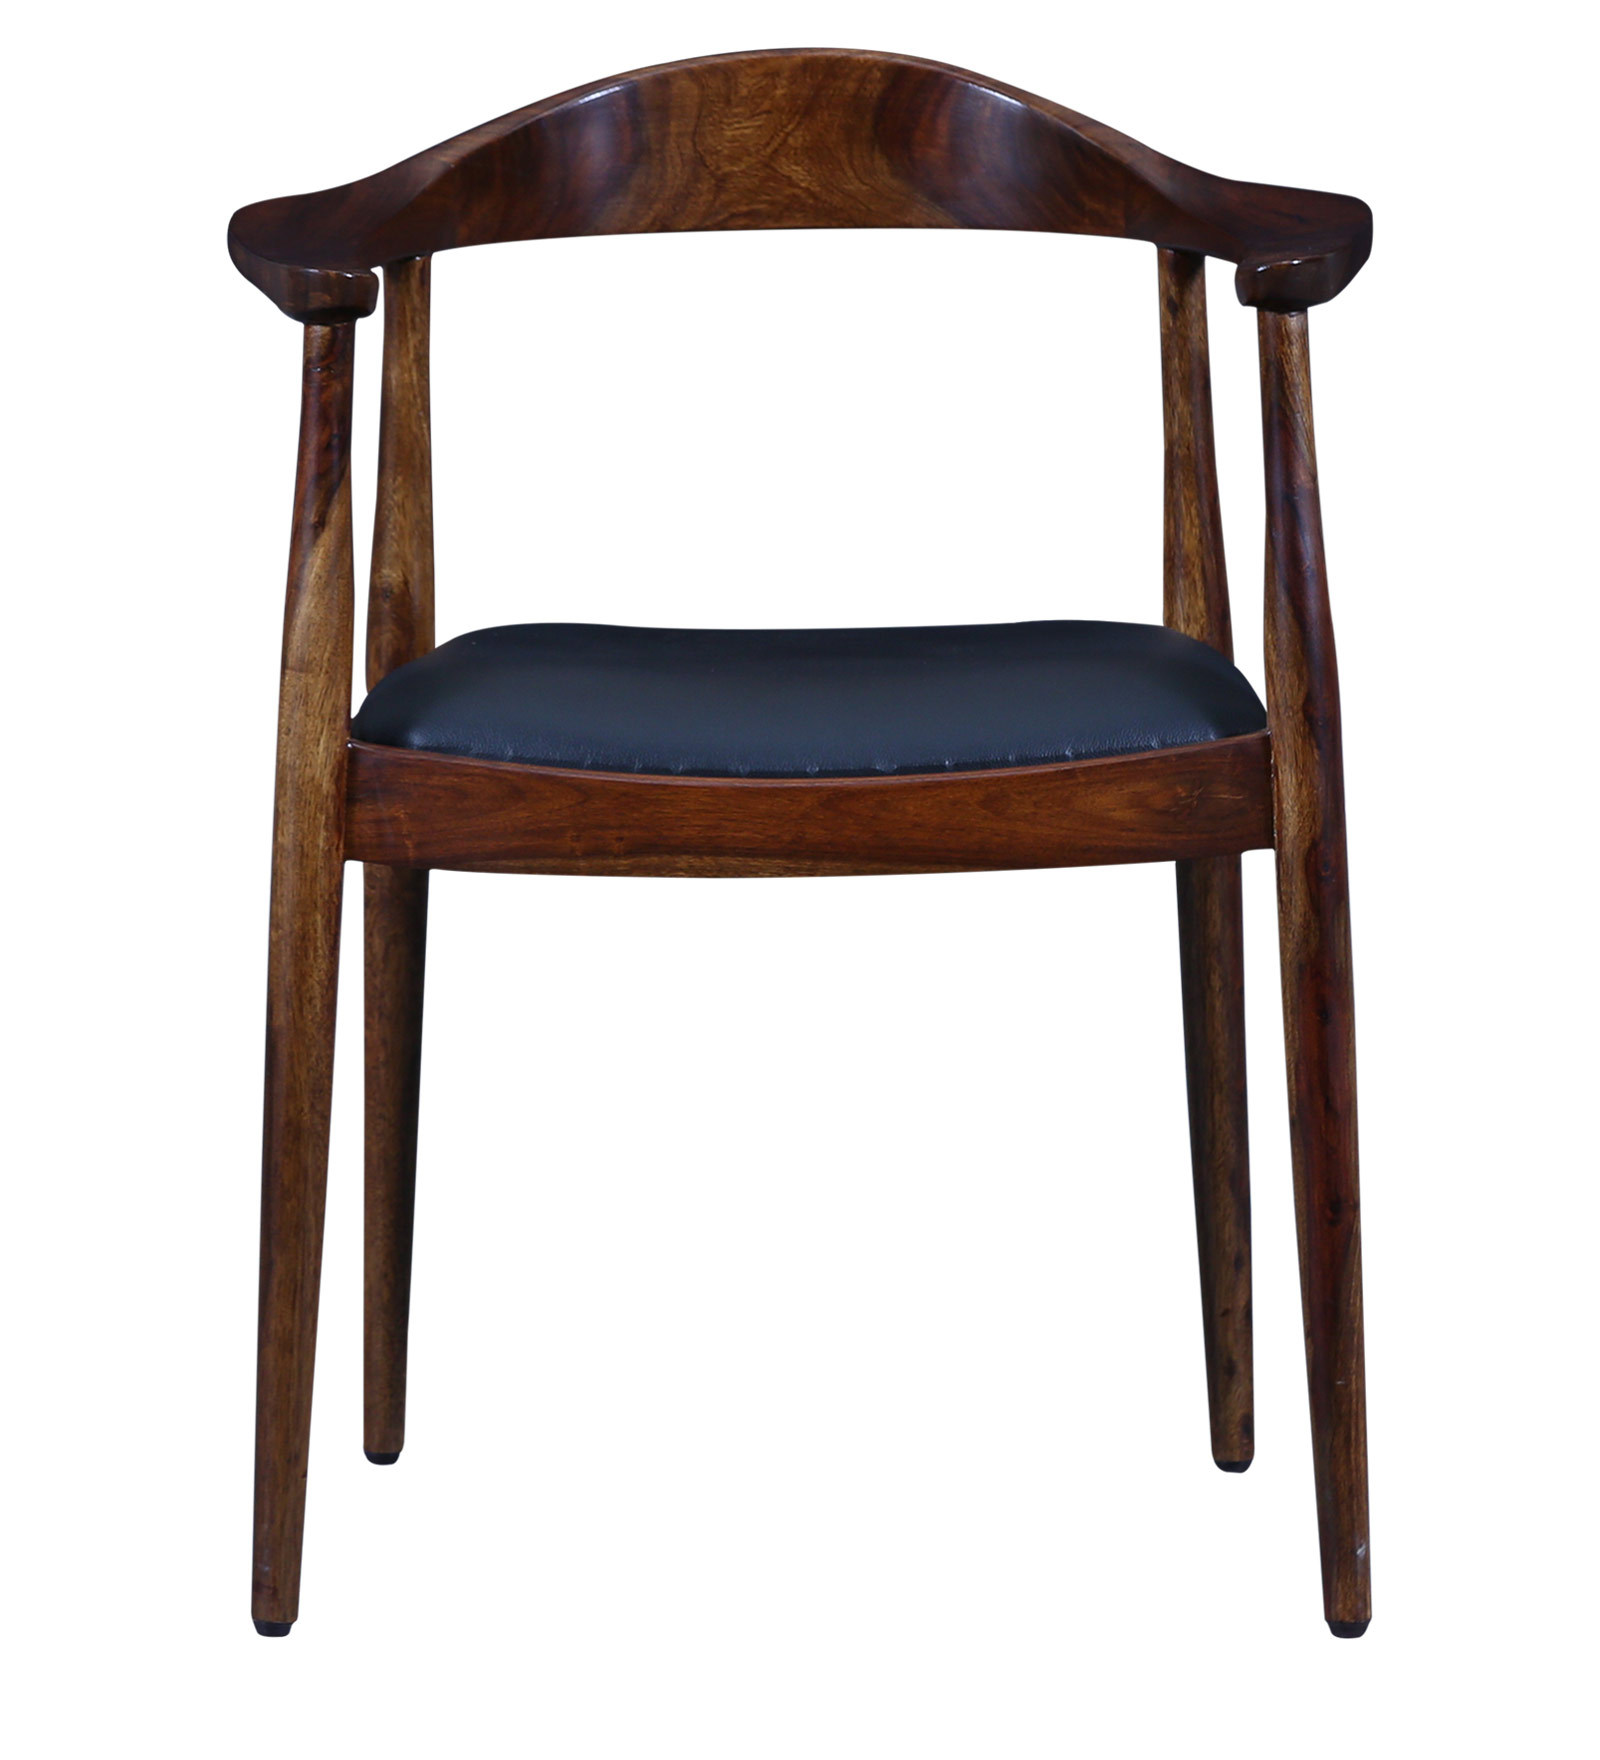Esvelt Arm Chair in Provincial Teak Finish by Woodsworth: (152, 31, 1479, 1685)
